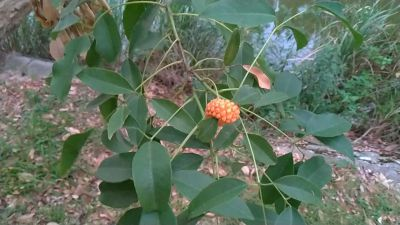eggs: (206, 94, 236, 123)
